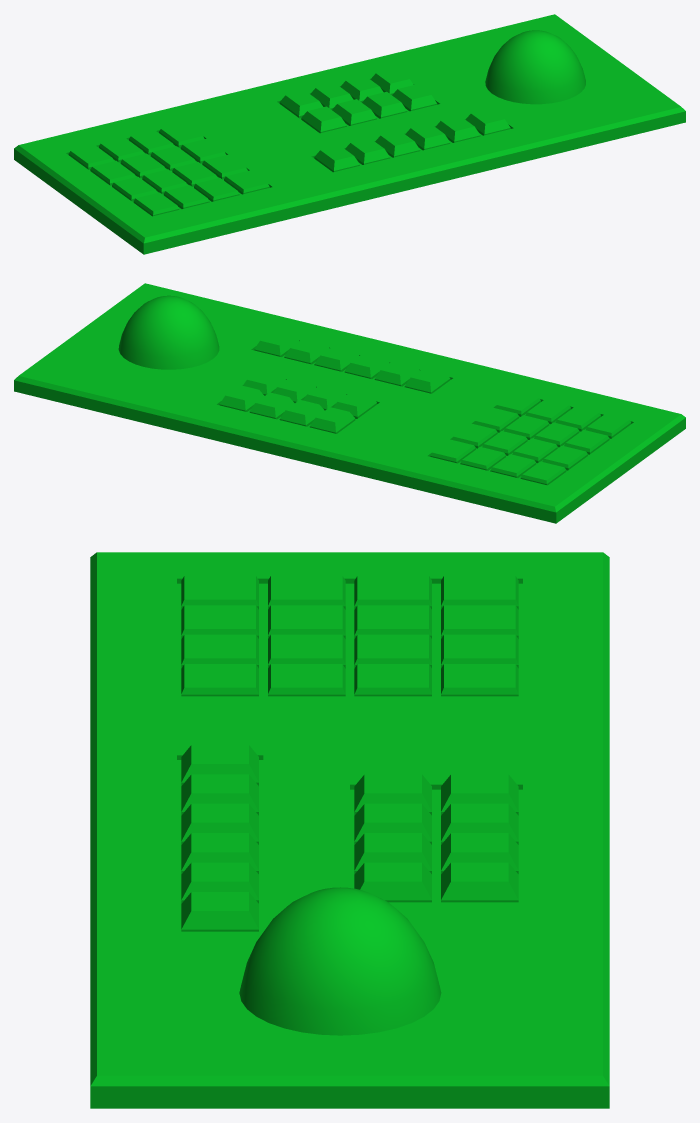
Rendered from Keyboard.FBX.
3 views of the same model, one above another, from view 1: azimuth 30°, elevation 25°; view 2: azimuth 150°, elevation 25°; view 3: azimuth 270°, elevation 25° (orthographic). The views are drawn at different scales.
Parts seen in each view (by area): view 1: Keyboard; view 2: Keyboard; view 3: Keyboard.
Boxes of the visible parts, x1,y1,x2,y2 form: Keyboard: (14,14,685,254); Keyboard: (14,283,685,523); Keyboard: (90,552,609,1108).
Size of the model in its own units: 34.87 by 3.94 by 14.46.
